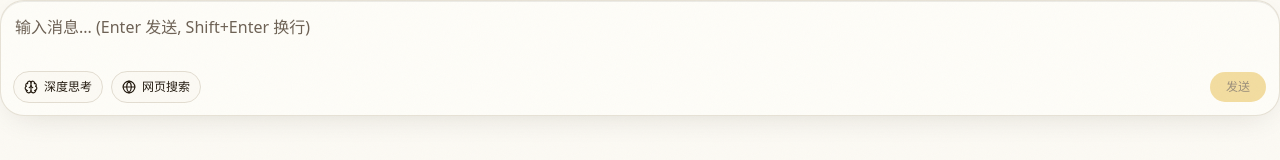
Test: ChatInput › 输入内容后发送按钮启用
Type "你好" into the text box at (640, 35), box [13, 13, 1267, 57]
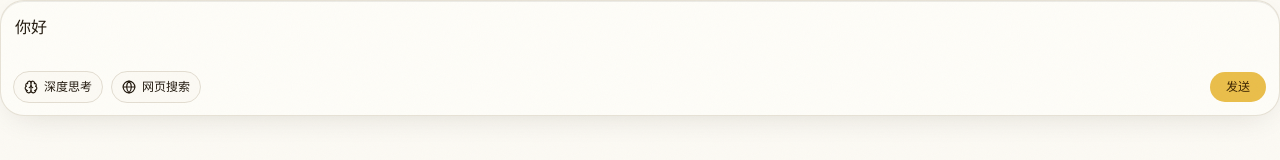
expect the button "发送" is enabled: met, box [1209, 71, 1267, 103]
